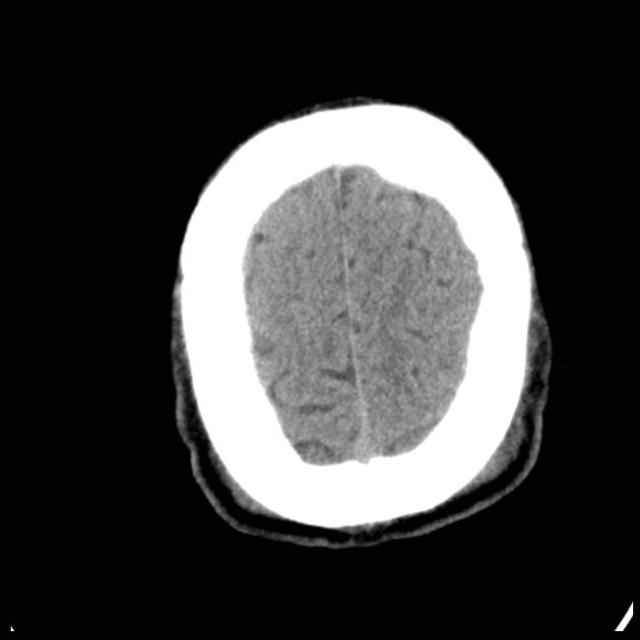lesion: (165, 94, 558, 550)
